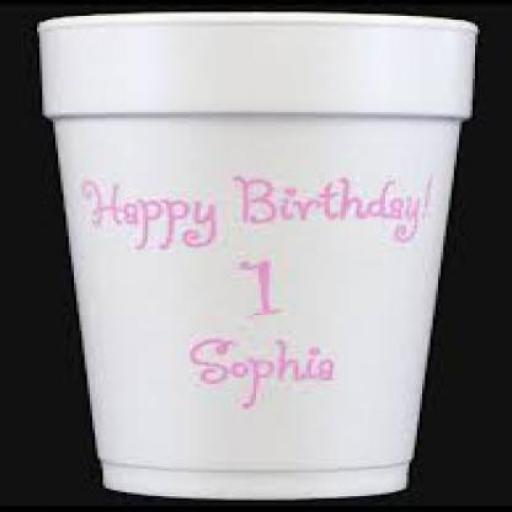paper: (37, 10, 475, 490)
